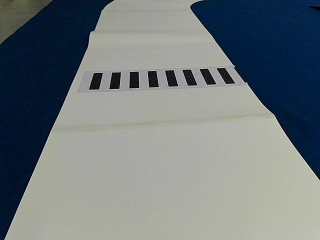crosswalk: (86, 68, 231, 89)
